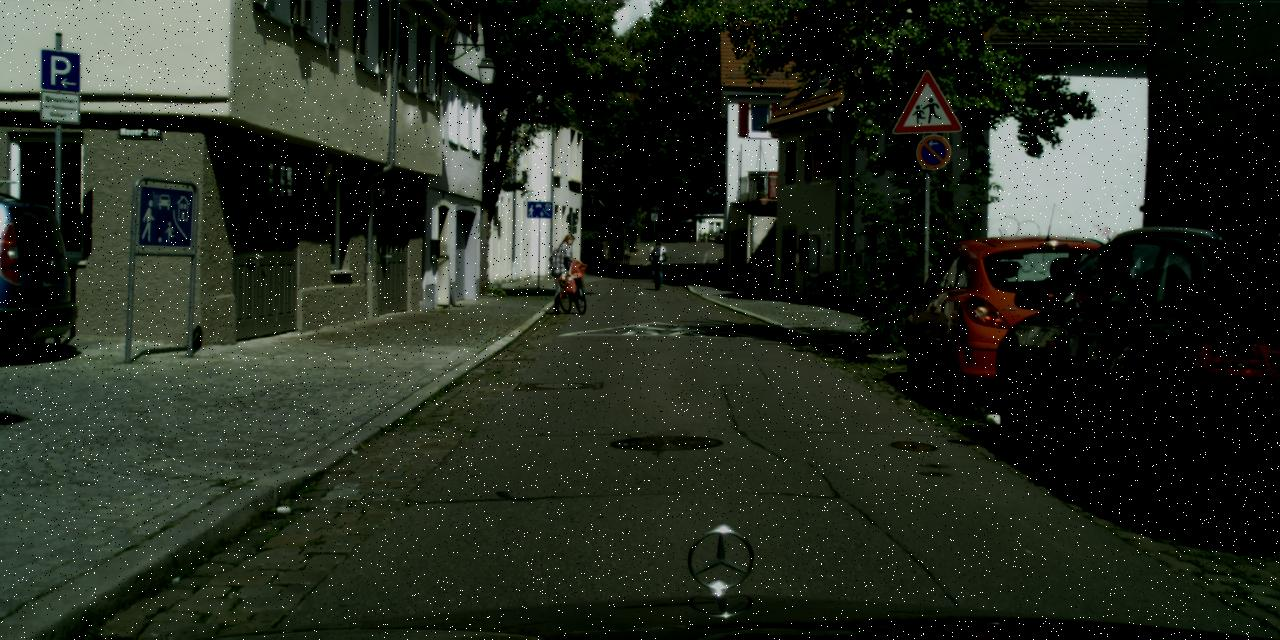ped: (649, 242, 665, 282)
